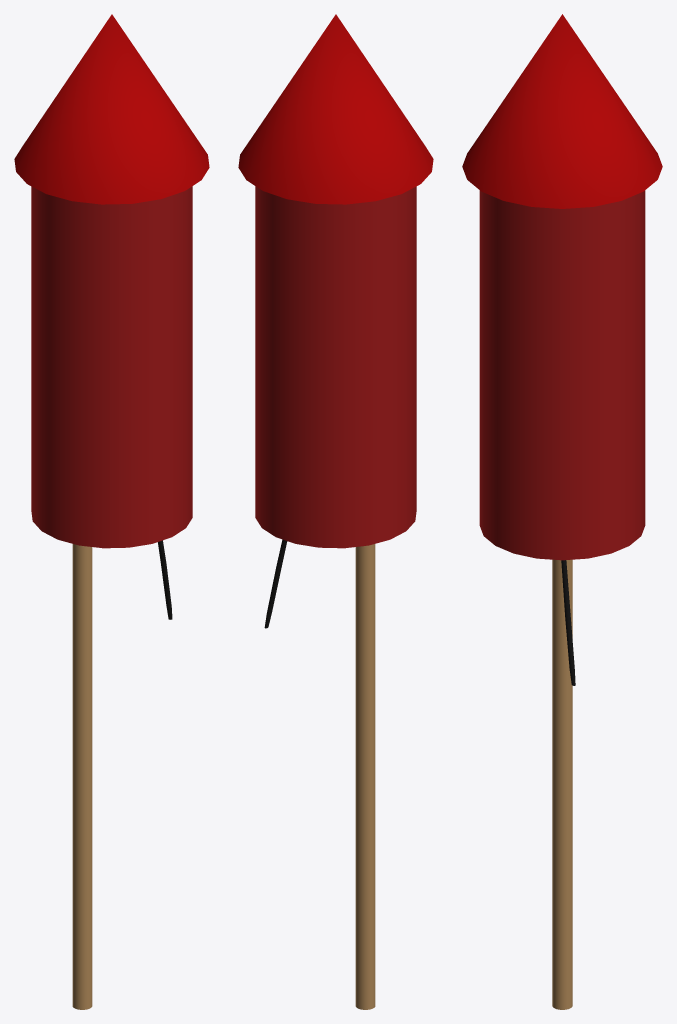
File: firecracker.fbx
3 views of the same model, side by side, from view 1: azimuth 30°, elevation 25°; view 2: azimuth 150°, elevation 25°; view 3: azimuth 270°, elevation 25° (orthographic). The views are drawn at different scales.
Visible parts, largest first — view 1: group1; view 2: group1; view 3: group1.
Part boxes in pixels (bbox=[...]): group1: bbox=[14, 14, 209, 1009]; group1: bbox=[238, 14, 433, 1009]; group1: bbox=[462, 14, 662, 1009].
Size of the model in its own units: 5.06 by 28.03 by 5.06.
